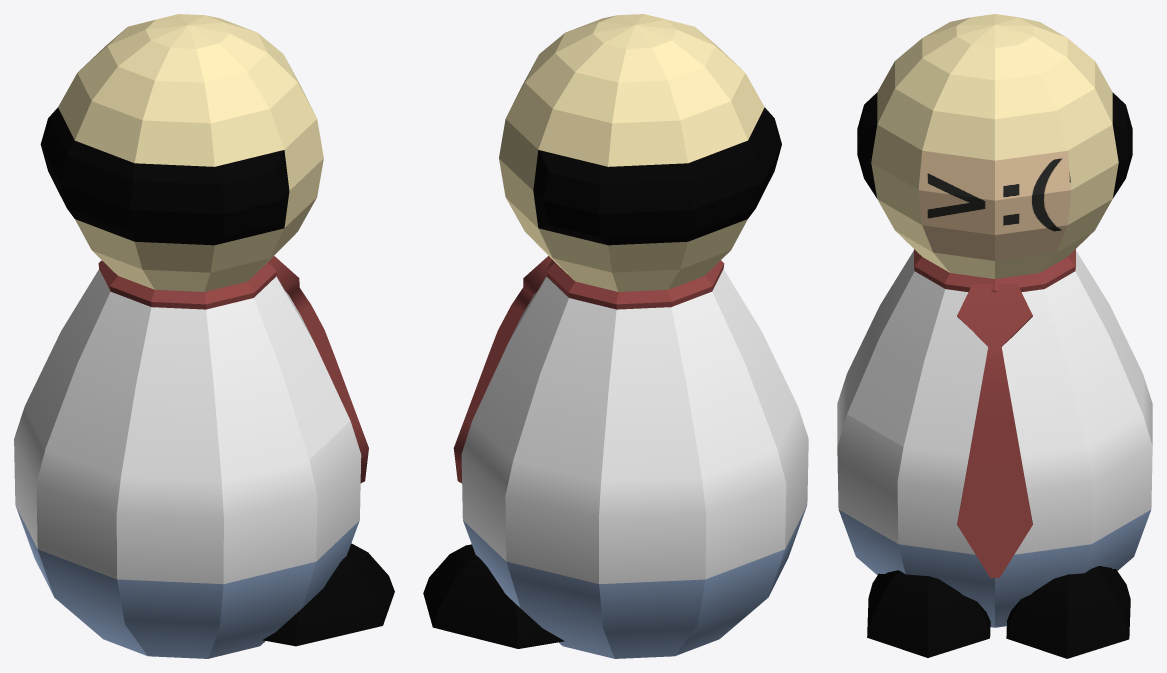
Rendered from BossModel.fbx.
3 renders of one model, left to right at view 1: azimuth 30°, elevation 25°; view 2: azimuth 150°, elevation 25°; view 3: azimuth 270°, elevation 25°, orthographic. The views are drawn at different scales.
Parts seen in each view (by area): view 1: pSphere9; view 2: pSphere9; view 3: pSphere9.
Boxes of the visible parts, x1,y1,x2,y2 form: pSphere9: (14, 14, 394, 658); pSphere9: (423, 14, 808, 658); pSphere9: (837, 14, 1152, 658).
Size of the model in its own units: 1.03 by 1.79 by 0.9059.
7 materials, 1 textured.
